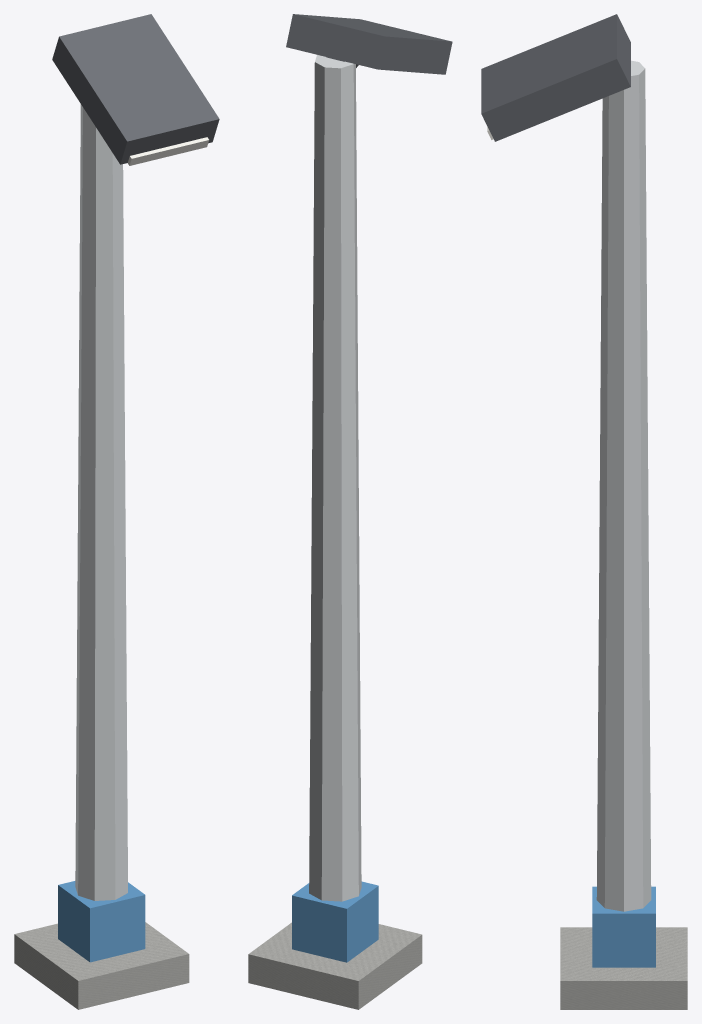
Rendered from caravan-park-and-campsite-floodlight-column-b863e812__35381.glb.
3 views of the same model, side by side, from view 1: azimuth 30°, elevation 25°; view 2: azimuth 150°, elevation 25°; view 3: azimuth 270°, elevation 25° (orthographic).
Parts seen in each view (by area): view 1: floodlight-column-galv, floodlight-column-charcoal, floodlight-column-hard, floodlight-column-azure, floodlight-column-shell; view 2: floodlight-column-galv, floodlight-column-hard, floodlight-column-charcoal, floodlight-column-azure; view 3: floodlight-column-galv, floodlight-column-charcoal, floodlight-column-hard, floodlight-column-azure.
Part boxes in pixels (x1=…): floodlight-column-galv: x1=75, y1=104, x2=127, y2=900; floodlight-column-charcoal: x1=52, y1=14, x2=219, y2=164; floodlight-column-hard: x1=14, y1=922, x2=189, y2=1009; floodlight-column-azure: x1=58, y1=881, x2=145, y2=962; floodlight-column-shell: x1=127, y1=137, x2=208, y2=165; floodlight-column-galv: x1=309, y1=55, x2=361, y2=901; floodlight-column-hard: x1=248, y1=922, x2=422, y2=1009; floodlight-column-charcoal: x1=286, y1=14, x2=452, y2=74; floodlight-column-azure: x1=292, y1=881, x2=378, y2=962; floodlight-column-galv: x1=596, y1=60, x2=651, y2=911; floodlight-column-charcoal: x1=481, y1=14, x2=630, y2=141; floodlight-column-hard: x1=560, y1=927, x2=687, y2=1009; floodlight-column-azure: x1=592, y1=886, x2=655, y2=967.
Size of the model in its own units: 0.6 by 4.92 by 0.9722.
5 materials, 1 textured.
